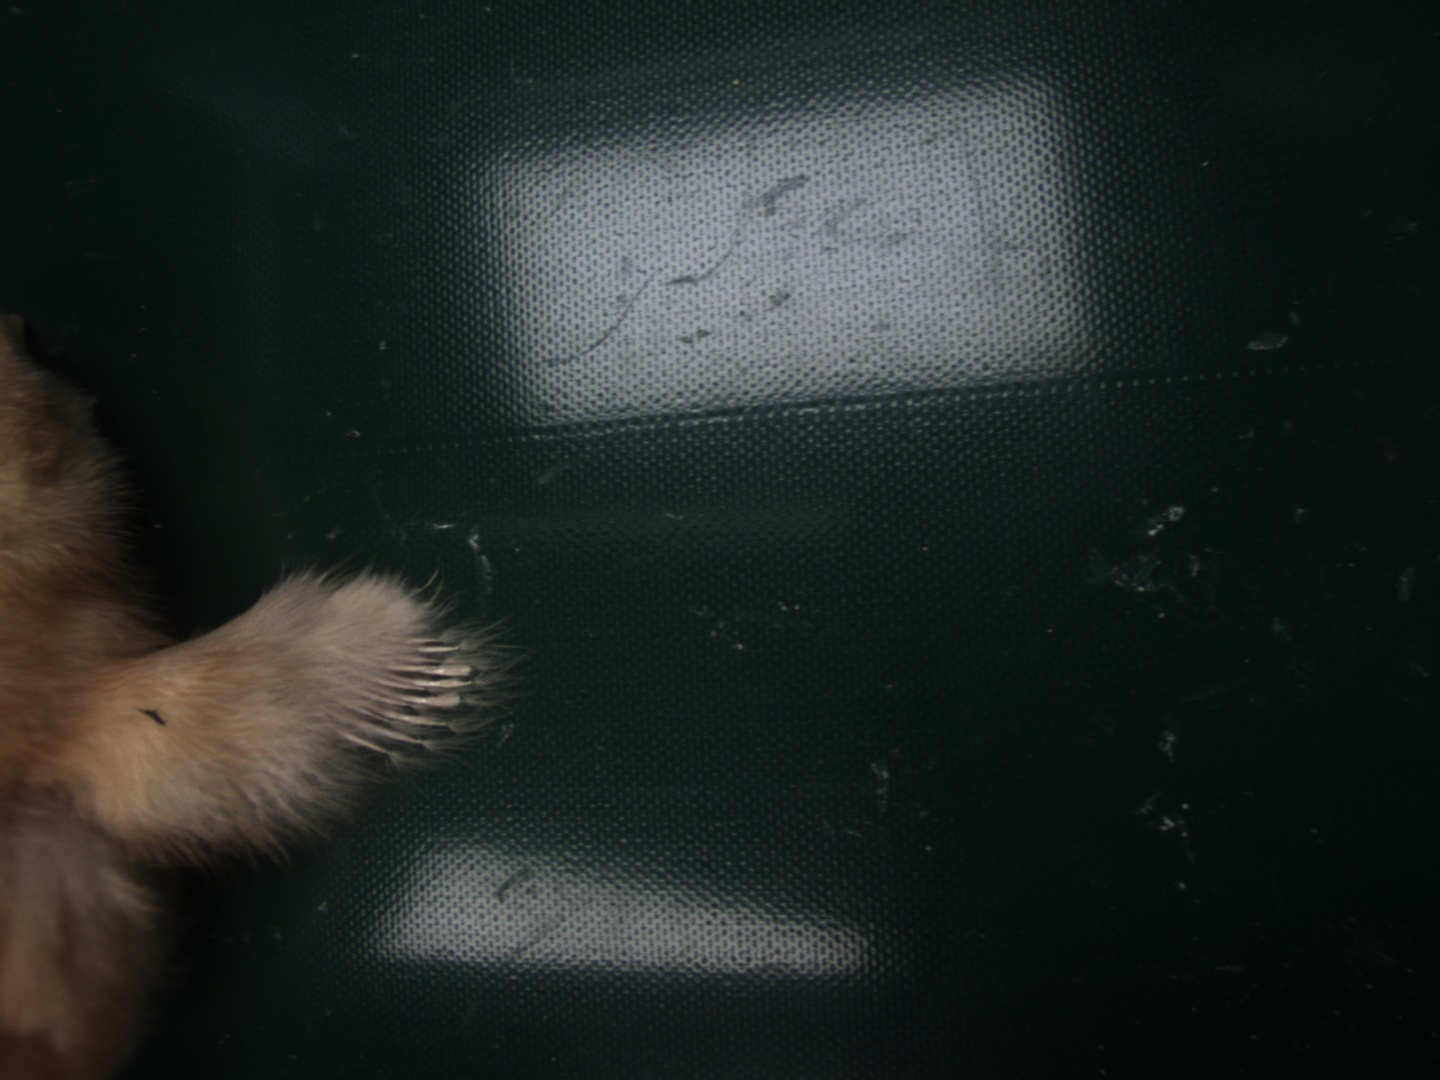female: (334, 633, 473, 762)
